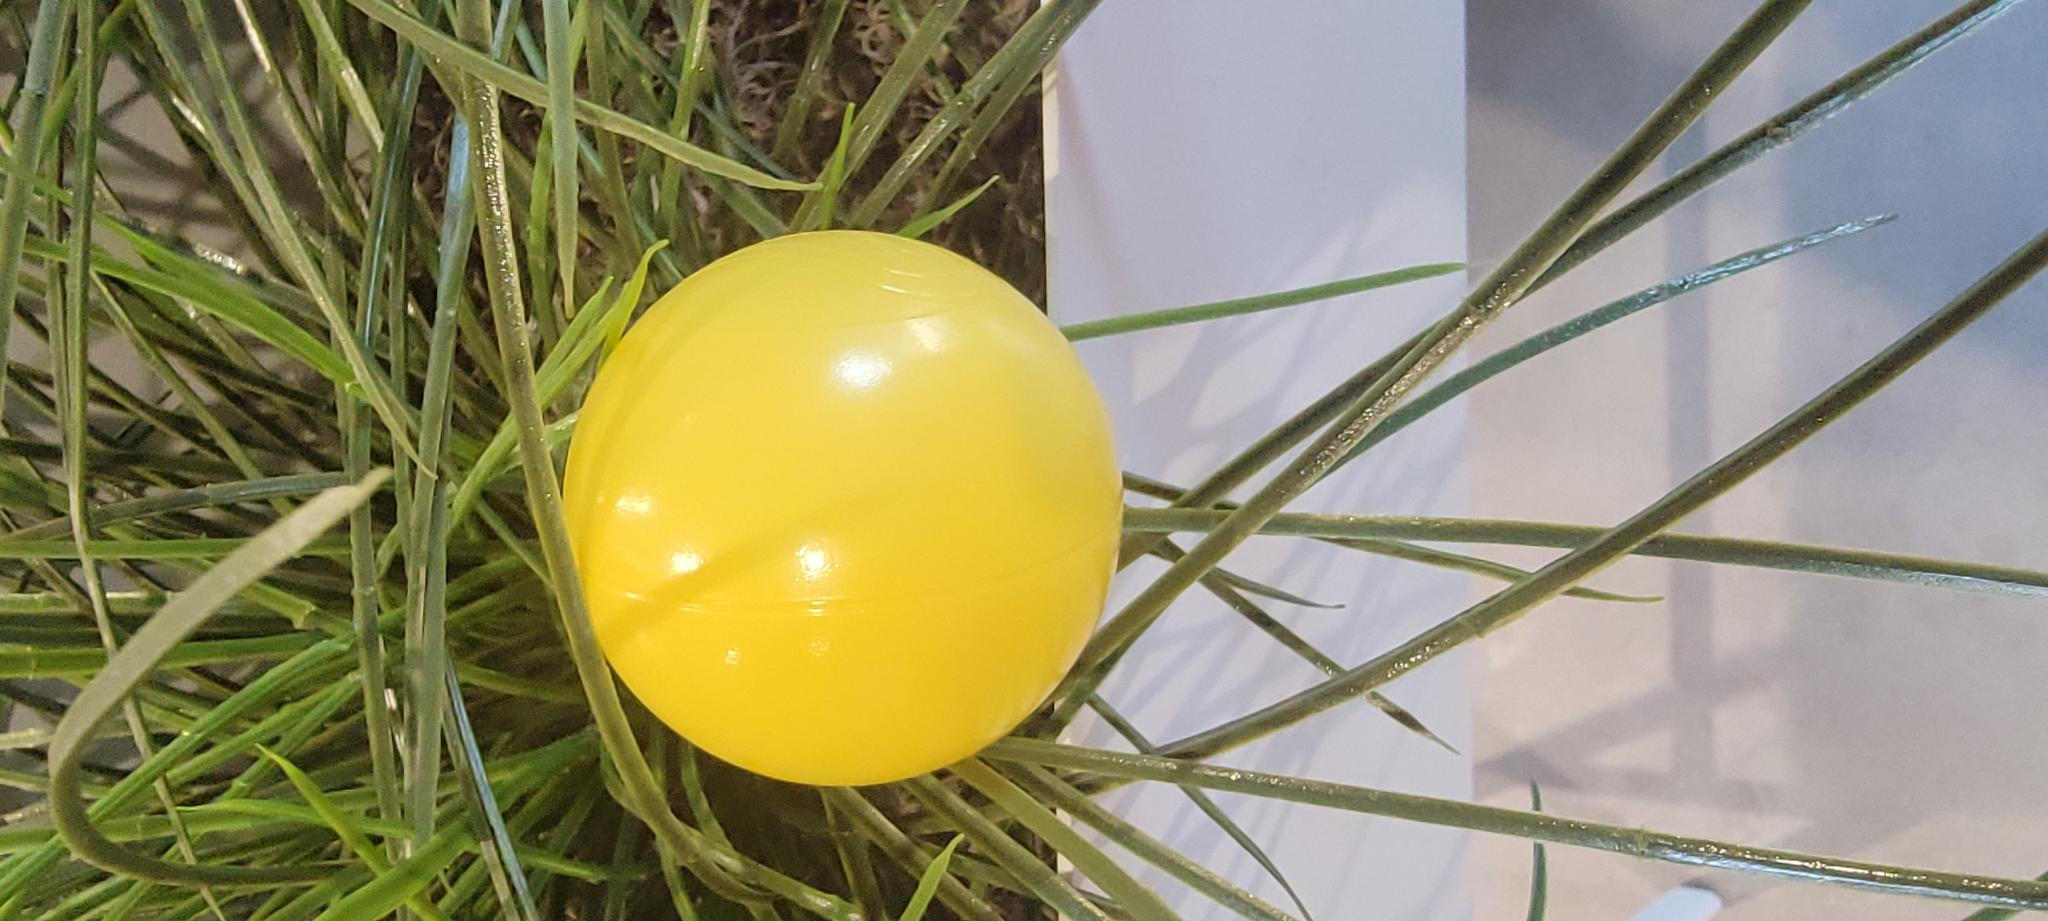Yellow-Ball: (135, 560, 690, 921)
